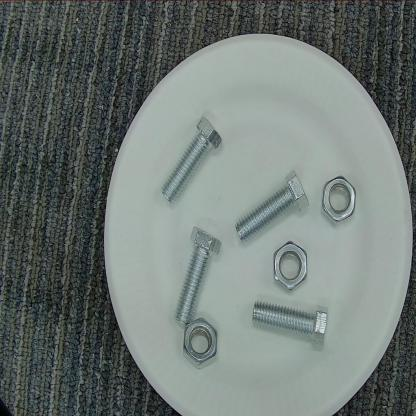FOD: (159, 112, 225, 208), (233, 169, 312, 246), (172, 224, 228, 328), (251, 296, 331, 355), (179, 314, 221, 372), (319, 173, 360, 226), (272, 238, 308, 294)
